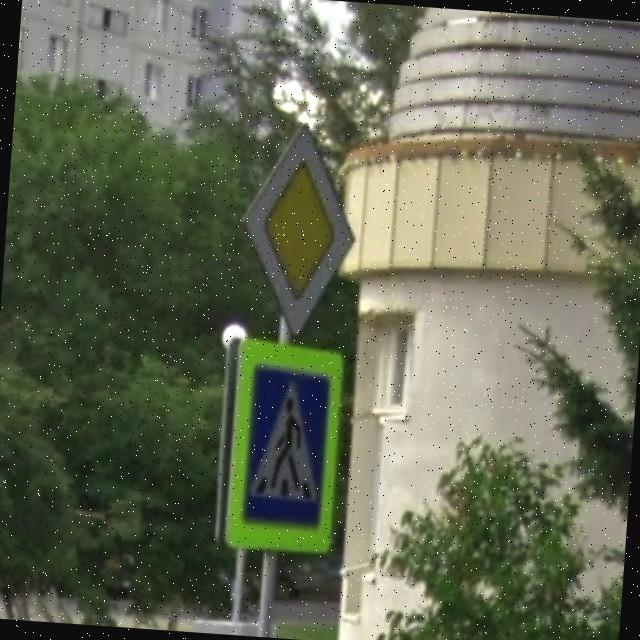Droga z pierwszenstwem: (228, 112, 366, 346)
Przejscie dla pieszych: (210, 334, 350, 560)
